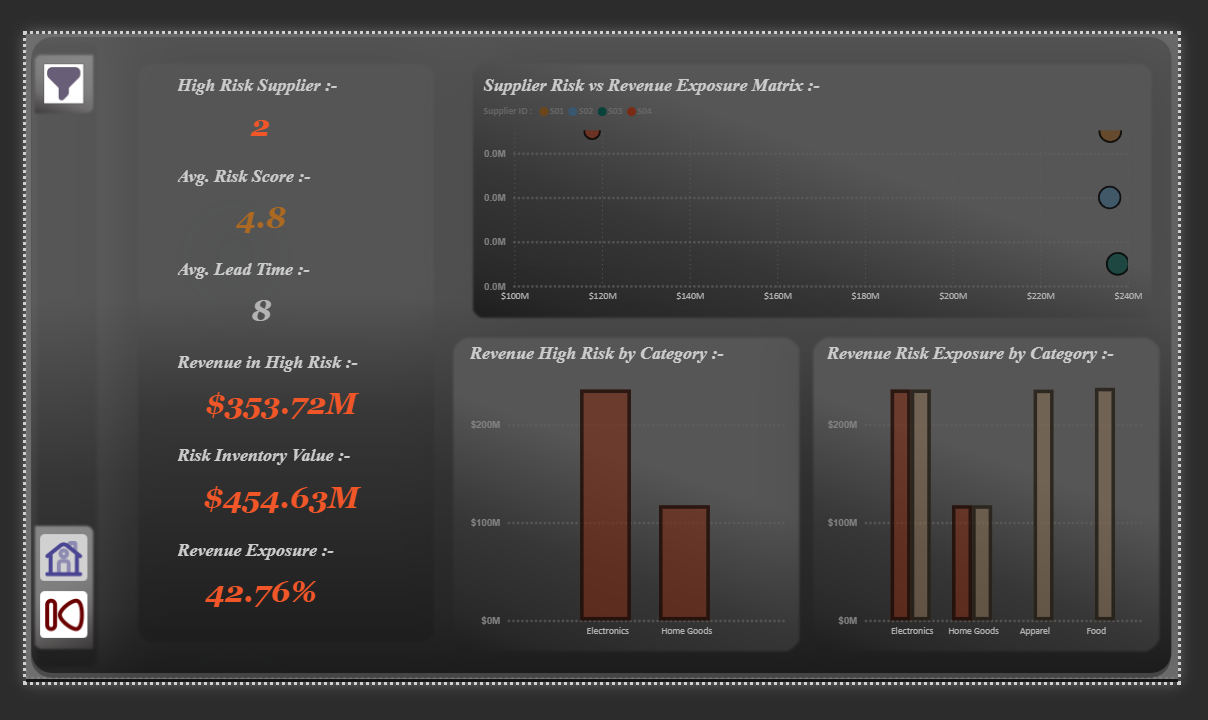

The page's visual inventory and layout, read from the dashboard file:
{"tool":"powerbi","page":{"name":"Supplier Risk & Lead Time Analysis :-","canvas":[1280,720],"ordinal":4},"visuals":[{"type":"group","id":"g1","title":"All KPI","box":[163.6,45,240,606.7],"z":0},{"type":"card","title":"Avg. Risk Score :-","fields":{"Values":["MyMeasures.Avg Risk Score"]},"box":[163.6,146.7,195,90],"z":0,"group":"g1"},{"type":"clusteredColumnChart","title":"Revenue High Risk by Category :-","fields":{"Y":["MyMeasures.Revenue High Risk"],"Category":["Dim_Product.Category"]},"box":[488.3,343.3,360,335],"z":0,"group":"g2"},{"type":"actionButton","title":"Previous Page  Button ","box":[11.7,612.2,60.6,66.6],"z":0,"group":"g3"},{"type":"group","id":"g2","title":"All Visuals ","box":[488.3,45,756.7,633.3],"z":1000},{"type":"scatterChart","title":"Supplier Risk vs Revenue Exposure Matrix :-","fields":{"Y":["MyMeasures.Avg Risk Score"],"Size":["MyMeasures.Total Inventory Value"],"X":["MyMeasures.Revenue by Product"],"Series":["Dim_Supplier.SupplierID"]},"box":[503.3,45,741.7,261.7],"z":1000,"group":"g2"},{"type":"card","title":"Revenue in High Risk :-","fields":{"Values":["MyMeasures.Revenue High Risk"]},"box":[163.6,353.3,240,90],"z":1000,"group":"g1"},{"type":"actionButton","title":"Home Button ","box":[11.7,548.6,60.6,66.6],"z":1000,"group":"g3"},{"type":"actionButton","title":"Filter Button ","box":[11.7,21.7,60.5,66.7],"z":2000,"group":"g3"},{"type":"card","title":"Avg. Lead Time :-","fields":{"Values":["MyMeasures.Avg Lead Time"]},"box":[163.6,250,195,90],"z":2000,"group":"g1"},{"type":"clusteredColumnChart","title":"Revenue Risk Exposure by Category :-","fields":{"Category":["Dim_Product.Category"],"Y":["MyMeasures.Revenue High Risk","MyMeasures.Total Revenue"]},"box":[885,343.3,360,335],"z":2000,"group":"g2"},{"type":"group","id":"g3","title":"Navigation","box":[11.7,21.7,60.6,657.2],"z":3000},{"type":"card","title":"High Risk Supplier :-","fields":{"Values":["MyMeasures.High Risk Suppliers"]},"box":[163.6,45,193.3,88.3],"z":3000,"group":"g1"},{"type":"card","title":"Risk Inventory Value :-","fields":{"Values":["MyMeasures.Inventory High Risk"]},"box":[163.6,456.7,240,91.7],"z":4000,"group":"g1"},{"type":"card","title":"Revenue Exposure :-","fields":{"Values":["MyMeasures.Revenue Exposure %"]},"box":[163.6,561.7,195,90],"z":5000,"group":"g1"}]}

Visuals, with their boxes on the page's 1280x720 design canvas (x1, y1, x2, y2). These are canvas units, not pixel positions in the 1208x720 screenshot, which may show the page scaled, cropped or inside an application window:
"All KPI" group: (164,45,404,652)
"Avg. Risk Score :-" card: (164,147,359,237)
"Revenue High Risk by Category :-" clusteredColumnChart: (488,343,848,678)
"Previous Page  Button " actionButton: (12,612,72,679)
"All Visuals " group: (488,45,1245,678)
"Supplier Risk vs Revenue Exposure Matrix :-" scatterChart: (503,45,1245,307)
"Revenue in High Risk :-" card: (164,353,404,443)
"Home Button " actionButton: (12,549,72,615)
"Filter Button " actionButton: (12,22,72,88)
"Avg. Lead Time :-" card: (164,250,359,340)
"Revenue Risk Exposure by Category :-" clusteredColumnChart: (885,343,1245,678)
"Navigation" group: (12,22,72,679)
"High Risk Supplier :-" card: (164,45,357,133)
"Risk Inventory Value :-" card: (164,457,404,548)
"Revenue Exposure :-" card: (164,562,359,652)
